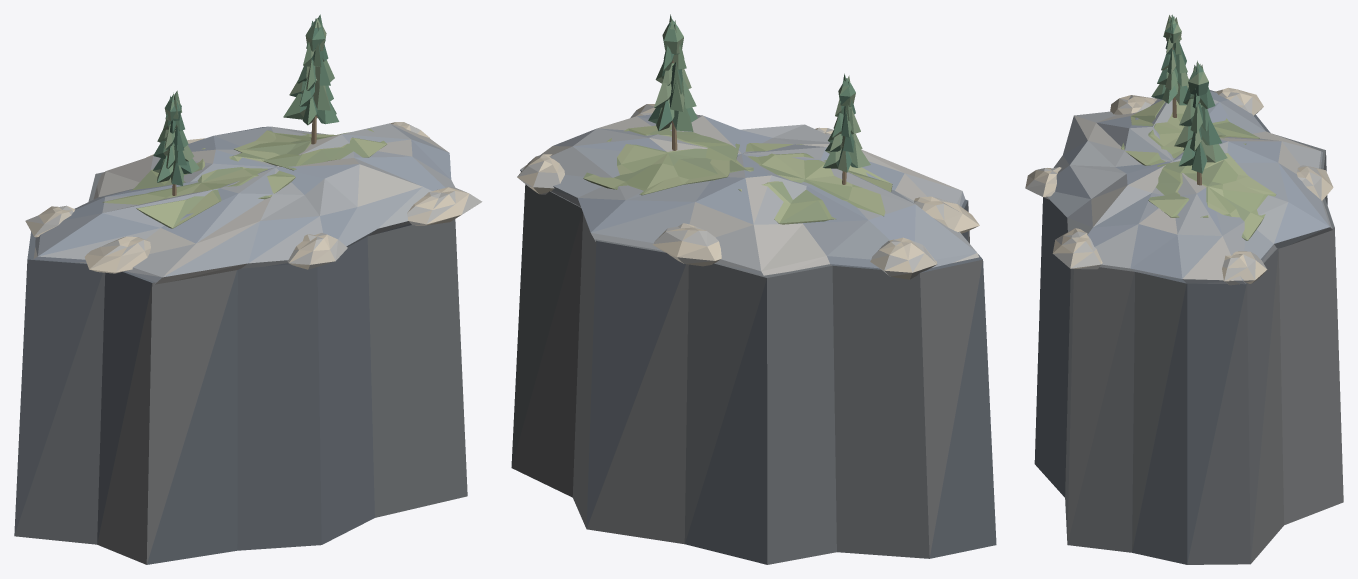
Rendered from island_near_right.glb.
3 renders of one model, left to right at view 1: azimuth 30°, elevation 25°; view 2: azimuth 150°, elevation 25°; view 3: azimuth 270°, elevation 25°, orthographic. The views are drawn at different scales.
Visible parts, largest first — view 1: island_near_right_rockroot, island_near_right_shoulder, island_near_right_grasscap_west, island_near_right_grasscap_east, island_near_right_wetshore_05, island_near_right_wetshore_03, island_near_right_wetshore_04, island_near_right_pine_02_crown_tier_00, island_near_right_wetshore_02, island_near_right_pine_02_crown_tier_01, island_near_right_pine_01_crown_tier_00, island_near_right_pine_02_crown_tier_02 (+1 smaller); view 2: island_near_right_rockroot, island_near_right_shoulder, island_near_right_grasscap_east, island_near_right_grasscap_west, island_near_right_wetshore_01, island_near_right_wetshore_02, island_near_right_wetshore_03, island_near_right_wetshore_00, island_near_right_pine_02_crown_tier_00, island_near_right_pine_02_crown_tier_01, island_near_right_pine_01_crown_tier_00; view 3: island_near_right_rockroot, island_near_right_shoulder, island_near_right_grasscap_east, island_near_right_grasscap_west, island_near_right_wetshore_05, island_near_right_wetshore_00, island_near_right_pine_02_crown_tier_00, island_near_right_wetshore_01, island_near_right_wetshore_04, island_near_right_pine_02_crown_tier_01, island_near_right_wetshore_02, island_near_right_wetshore_03 (+5 smaller).
Boxes of the visible parts, left/top/right/bottom form: island_near_right_rockroot: left=14, top=172, right=467, bottom=564; island_near_right_shoulder: left=33, top=123, right=455, bottom=284; island_near_right_grasscap_west: left=102, top=148, right=295, bottom=228; island_near_right_grasscap_east: left=234, top=129, right=387, bottom=170; island_near_right_wetshore_05: left=407, top=187, right=482, bottom=225; island_near_right_wetshore_03: left=84, top=236, right=150, bottom=273; island_near_right_wetshore_04: left=287, top=233, right=347, bottom=269; island_near_right_pine_02_crown_tier_00: left=283, top=93, right=339, bottom=125; island_near_right_wetshore_02: left=25, top=205, right=75, bottom=237; island_near_right_pine_02_crown_tier_01: left=289, top=76, right=333, bottom=110; island_near_right_pine_01_crown_tier_00: left=153, top=155, right=199, bottom=185; island_near_right_pine_02_crown_tier_02: left=297, top=58, right=334, bottom=90; island_near_right_rockroot: left=511, top=184, right=996, bottom=564; island_near_right_shoulder: left=520, top=114, right=978, bottom=275; island_near_right_grasscap_east: left=583, top=124, right=739, bottom=195; island_near_right_grasscap_west: left=713, top=143, right=892, bottom=224; island_near_right_wetshore_01: left=653, top=223, right=721, bottom=266; island_near_right_wetshore_02: left=870, top=237, right=937, bottom=279; island_near_right_wetshore_03: left=914, top=196, right=979, bottom=233; island_near_right_wetshore_00: left=517, top=154, right=564, bottom=194; island_near_right_pine_02_crown_tier_00: left=648, top=99, right=697, bottom=131; island_near_right_pine_02_crown_tier_01: left=654, top=78, right=696, bottom=111; island_near_right_pine_01_crown_tier_00: left=823, top=140, right=870, bottom=172; island_near_right_rockroot: left=1034, top=90, right=1343, bottom=564; island_near_right_shoulder: left=1048, top=91, right=1332, bottom=284; island_near_right_grasscap_east: left=1148, top=153, right=1276, bottom=240; island_near_right_grasscap_west: left=1121, top=100, right=1259, bottom=165; island_near_right_wetshore_05: left=1052, top=228, right=1102, bottom=269; island_near_right_wetshore_00: left=1222, top=251, right=1267, bottom=285; island_near_right_pine_02_crown_tier_00: left=1178, top=139, right=1227, bottom=173; island_near_right_wetshore_01: left=1297, top=165, right=1333, bottom=200; island_near_right_wetshore_04: left=1025, top=167, right=1061, bottom=199; island_near_right_pine_02_crown_tier_01: left=1174, top=120, right=1221, bottom=151; island_near_right_wetshore_02: left=1214, top=87, right=1263, bottom=115; island_near_right_wetshore_03: left=1110, top=95, right=1156, bottom=114.
Size of the model in its own units: 40.39 by 40 by 25.9.
